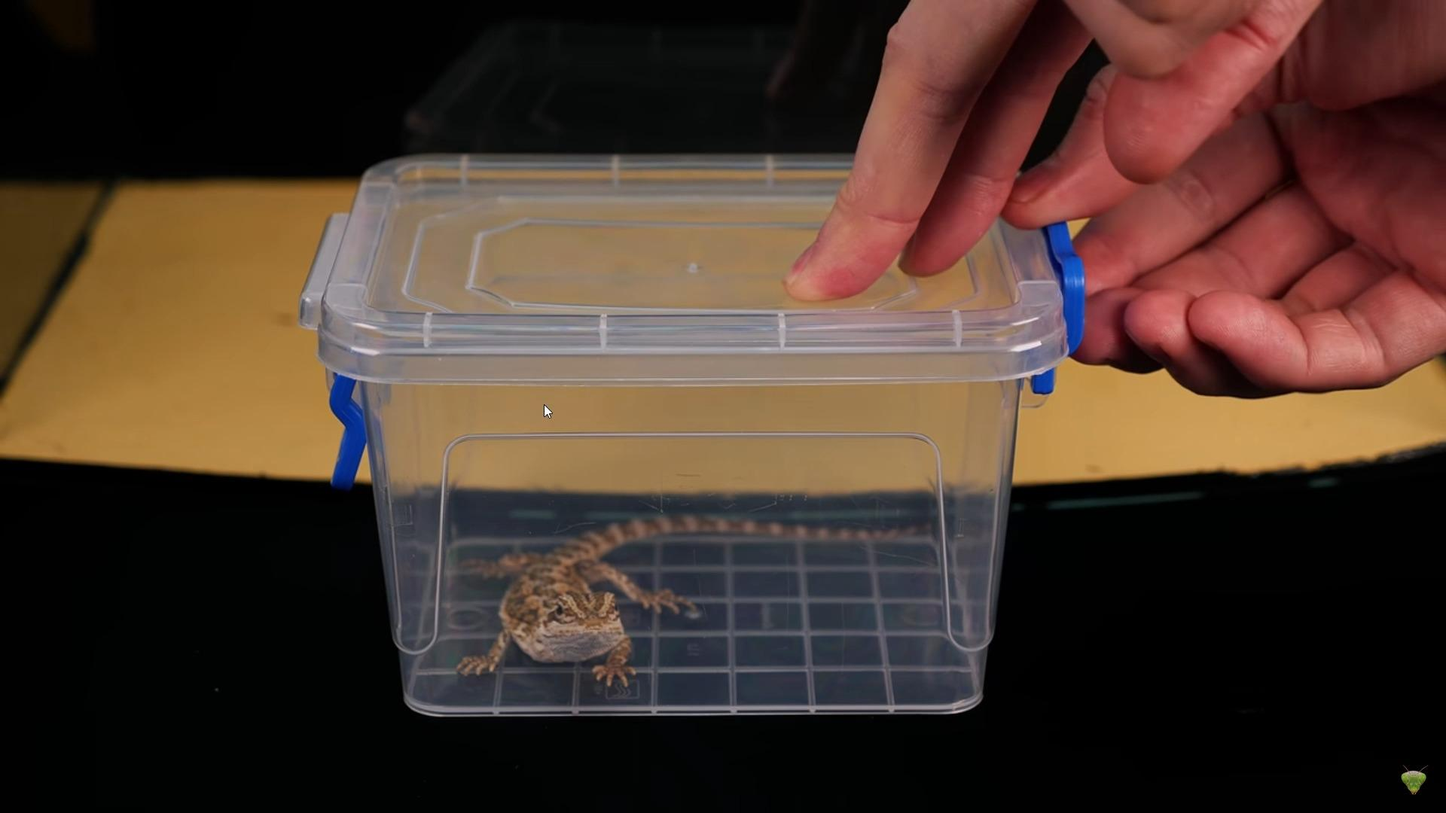lizard: (453, 512, 938, 694)
